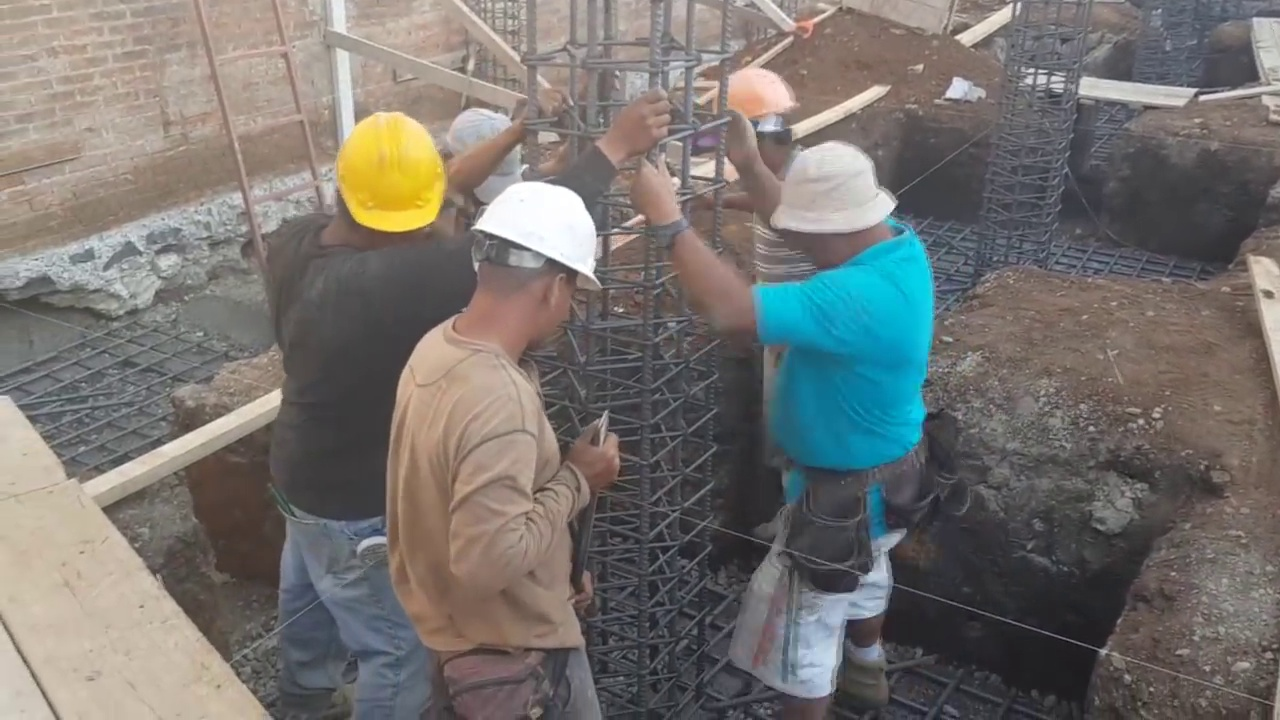helmet: (468, 179, 604, 291), (333, 107, 447, 234), (708, 66, 801, 122)
helmet-off: (768, 141, 909, 278), (442, 100, 522, 212)
helmet-on: (450, 180, 606, 368), (318, 104, 447, 246), (709, 57, 804, 179)
person: (262, 87, 674, 712), (636, 141, 937, 718), (381, 179, 621, 719), (710, 54, 812, 476)
